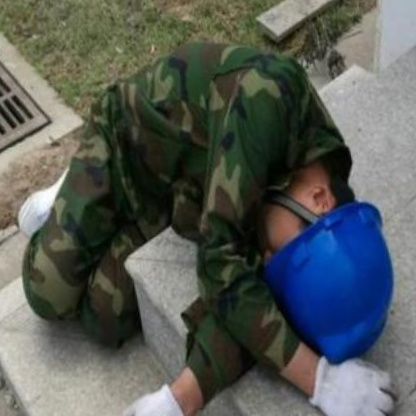blue: (252, 187, 416, 379)
